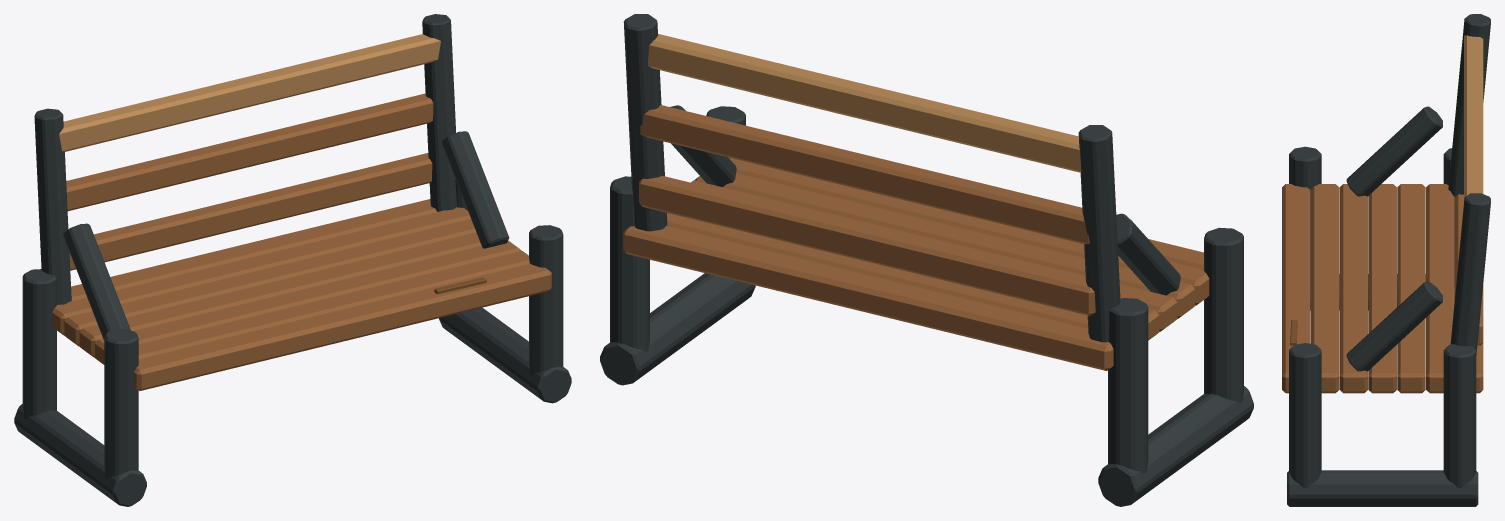
Rendered from runtime.glb.
3 renders of one model, left to right at view 1: azimuth 30°, elevation 25°; view 2: azimuth 150°, elevation 25°; view 3: azimuth 270°, elevation 25°, orthographic. The views are drawn at different scales.
Visible parts, largest first — view 1: eiffel-historic-bench-v06_nocol; view 2: eiffel-historic-bench-v06_nocol; view 3: eiffel-historic-bench-v06_nocol.
Boxes of the visible parts, x1,y1,x2,y2 form: eiffel-historic-bench-v06_nocol: (14, 14, 571, 506); eiffel-historic-bench-v06_nocol: (600, 14, 1253, 506); eiffel-historic-bench-v06_nocol: (1282, 14, 1490, 506).
Bounding box in the file's own units: 1.92 × 1.27 × 0.7992.
